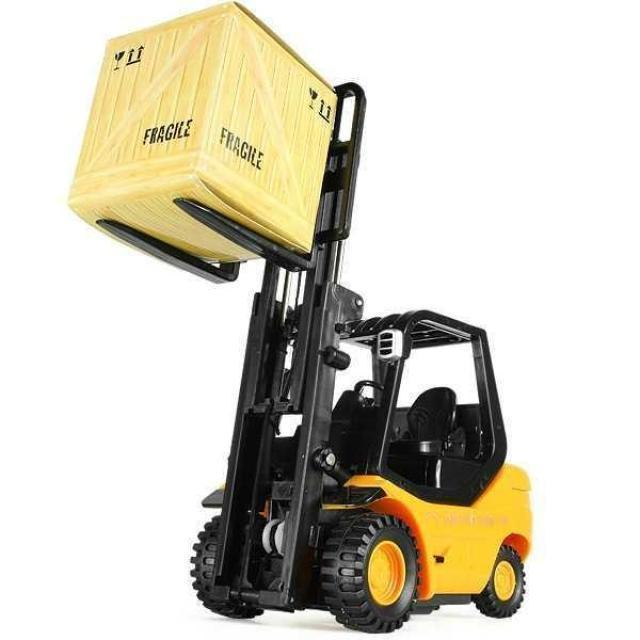forklift: (187, 88, 532, 634)
